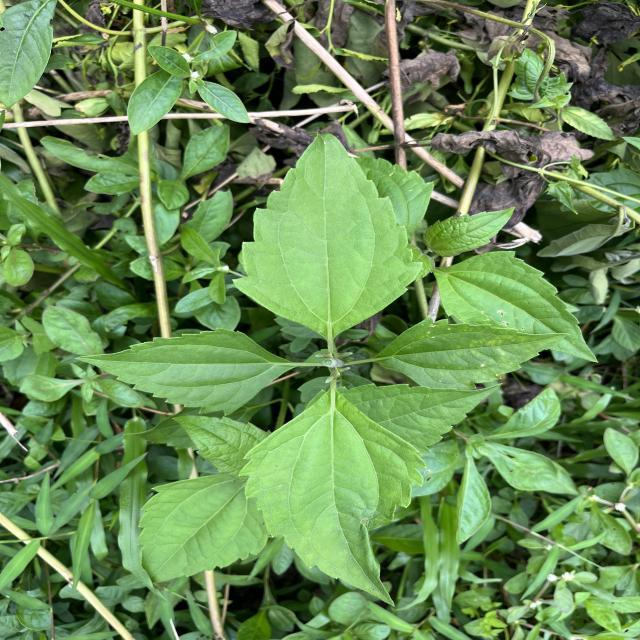Chromolaena odorata: (234, 382, 432, 612), (226, 127, 431, 345), (72, 326, 294, 420)
